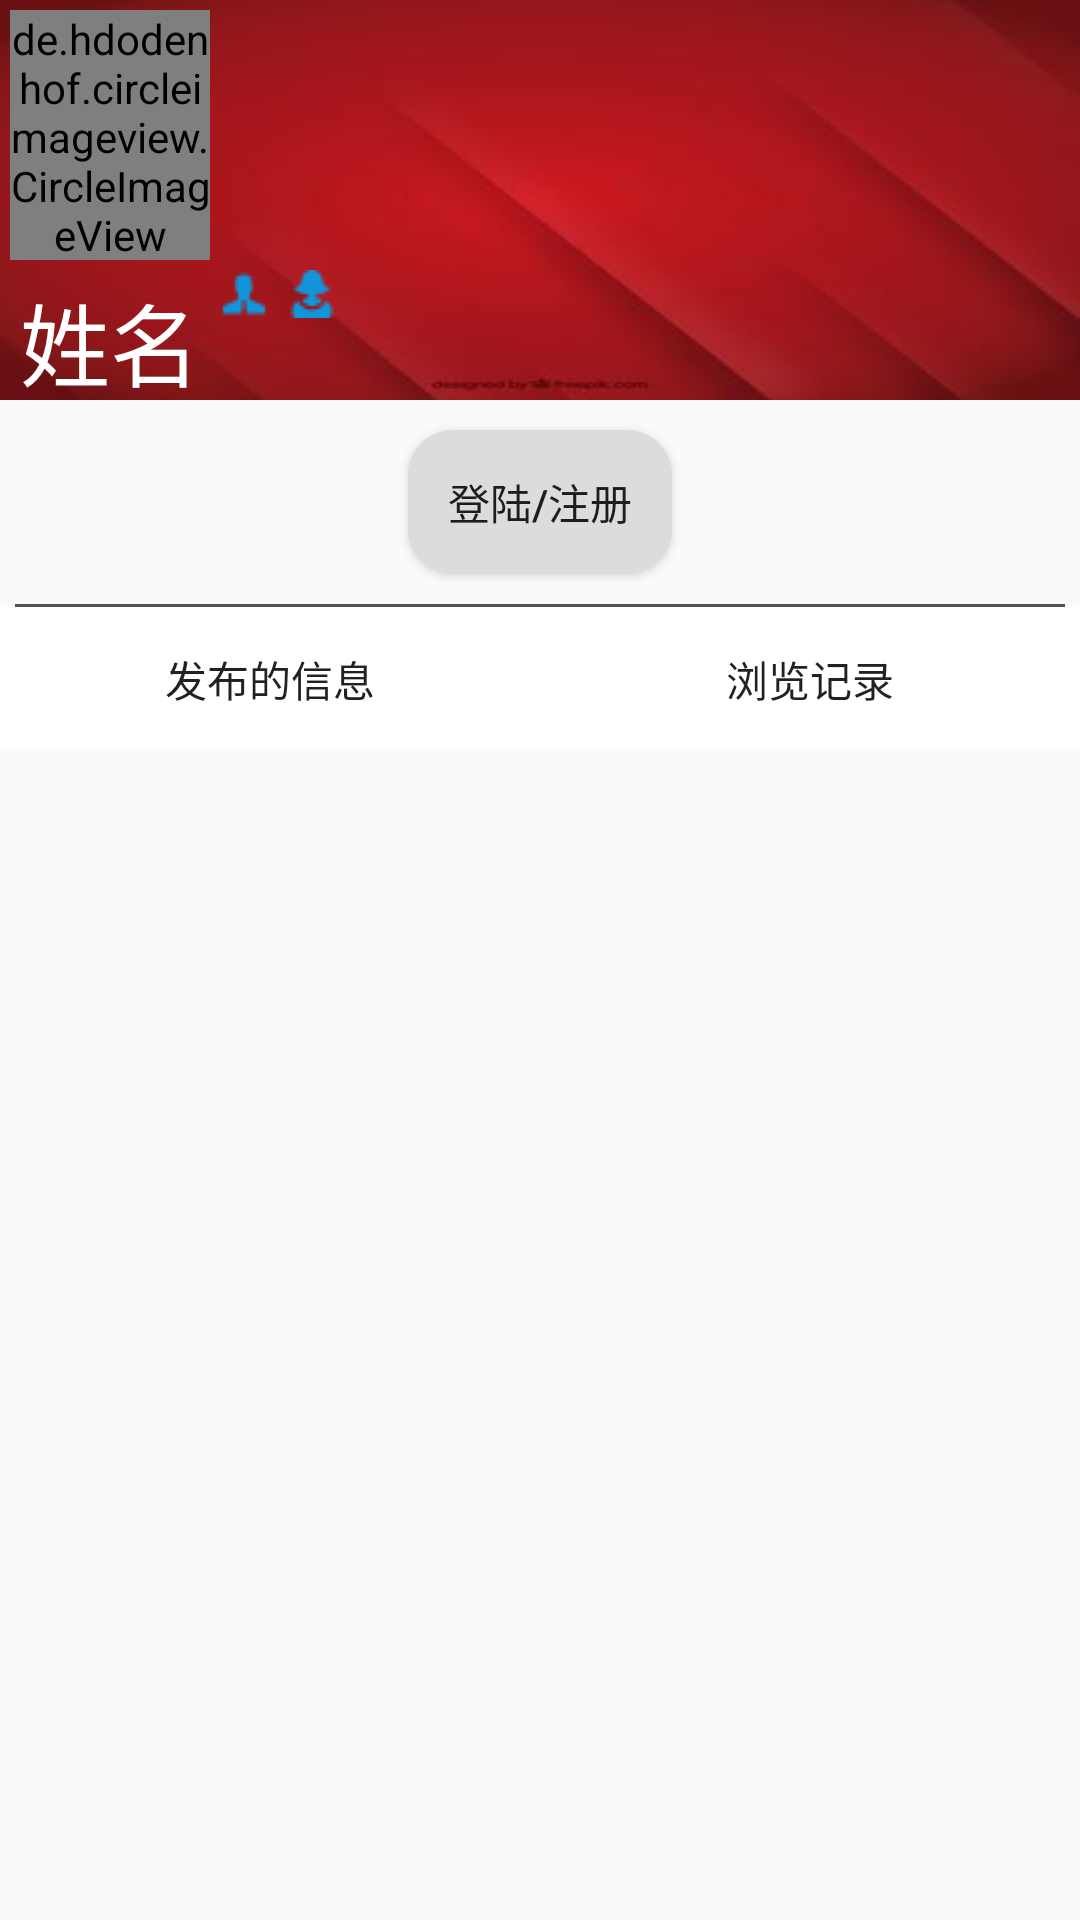

Named icons in this screenshot (1080 × 1920) and their centers, [x,y]:
man: [244,294]
woman: [312,294]
